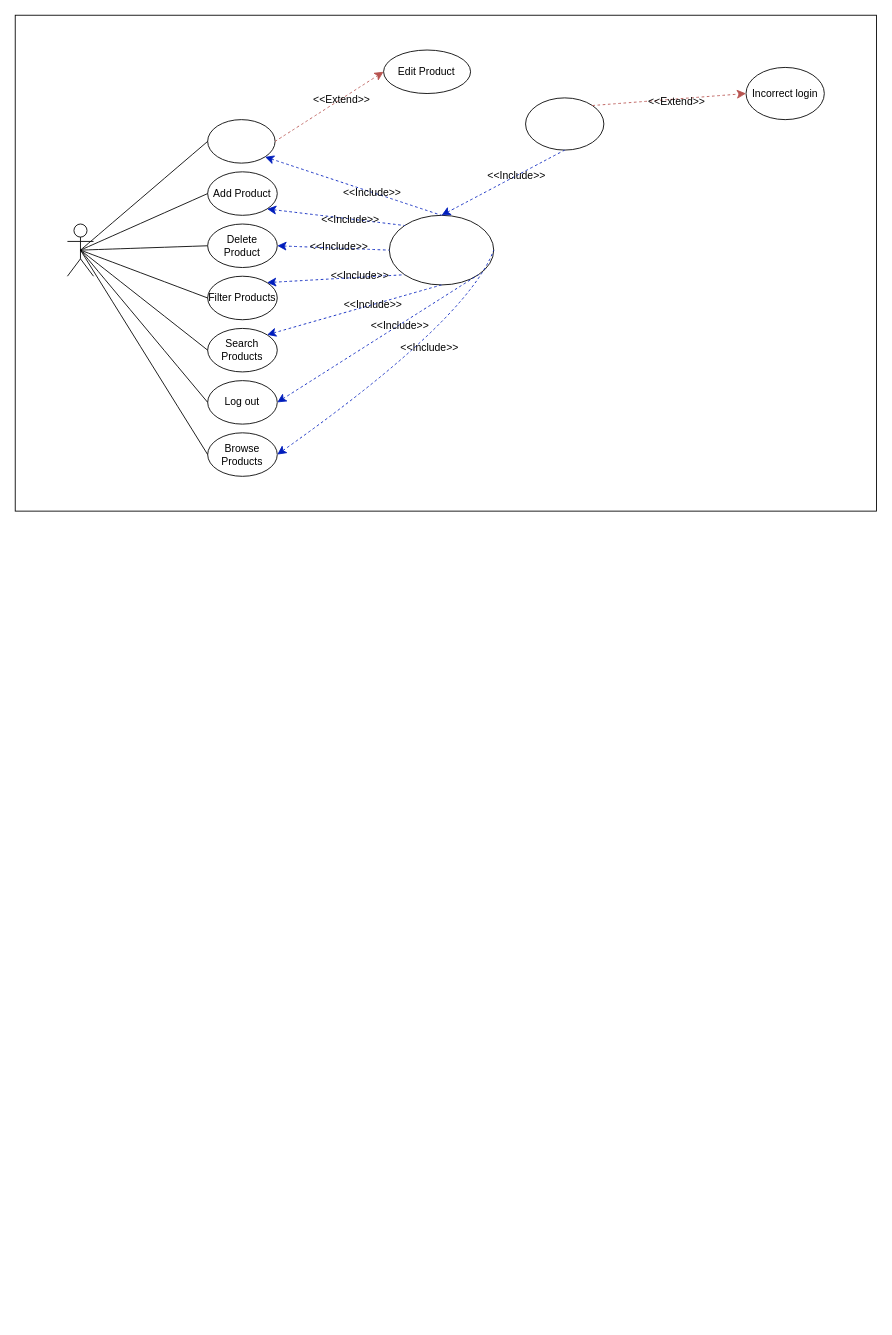
The diagram is 892 pixels wide and 1335 high, and some of its shapes have lost their labels. Here are the shapes that lost their labels. From the top down, the box of each, then its label:
(207, 119, 275, 163): View Product
(525, 97, 604, 150): Validate login
(67, 223, 94, 276): Manager
(388, 214, 494, 285): Log into admin account
